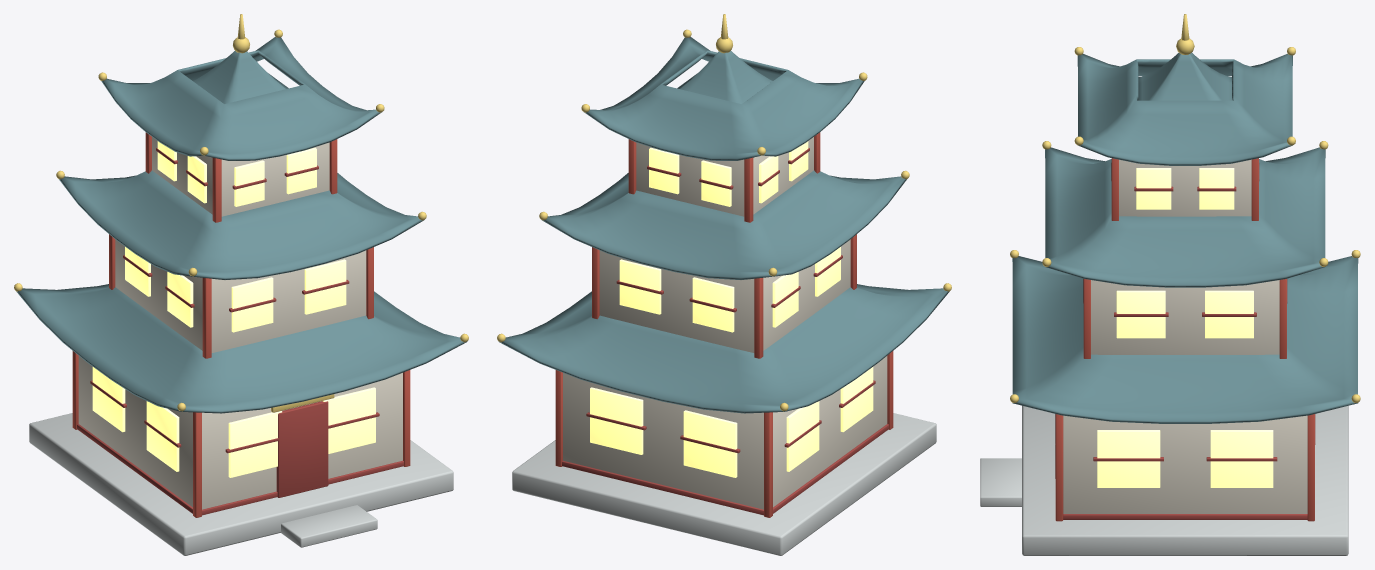
File: tower.glb
The picture shows the model from 3 angles, left to right: view 1: azimuth 30°, elevation 25°; view 2: azimuth 150°, elevation 25°; view 3: azimuth 270°, elevation 25°; orthographic projection. The views are drawn at different scales.
Parts seen in each view (by area): view 1: L1Eave, L2Eave, Base, L3Eave, L1Wall, L2Wall, Door, L3Wall, Cap, L1Win.005, L1Win.004, Step1 (+16 smaller); view 2: L1Eave, L2Eave, Base, L1Wall, L3Eave, L2Wall, L3Wall, L1Win, L1Win.001, Cap, L2Win, L2Win.001 (+14 smaller); view 3: L1Eave, L2Eave, Base, L3Eave, L1Wall, L2Wall, L3Wall, L1Win.007, L1Win.006, Cap, L2Win.007, L2Win.006 (+10 smaller).
Part boxes in pixels (bbox=[...]): L1Eave: bbox=[16, 284, 467, 413]; L2Eave: bbox=[59, 170, 423, 279]; Base: bbox=[29, 413, 453, 555]; L3Eave: bbox=[101, 37, 381, 160]; L1Wall: bbox=[78, 356, 402, 509]; L2Wall: bbox=[115, 239, 366, 352]; Door: bbox=[276, 401, 328, 497]; L3Wall: bbox=[152, 137, 329, 216]; Cap: bbox=[193, 51, 288, 103]; L1Win.005: bbox=[228, 411, 282, 477]; L1Win.004: bbox=[323, 387, 375, 453]; Step1: bbox=[280, 505, 377, 547]; L1Eave: bbox=[498, 284, 949, 413]; L2Eave: bbox=[542, 170, 906, 279]; Base: bbox=[512, 413, 936, 555]; L1Wall: bbox=[563, 356, 887, 509]; L3Eave: bbox=[584, 37, 864, 160]; L2Wall: bbox=[599, 239, 850, 352]; L3Wall: bbox=[636, 137, 813, 216]; L1Win: bbox=[683, 410, 737, 477]; L1Win.001: bbox=[590, 387, 643, 454]; Cap: bbox=[677, 51, 772, 103]; L2Win: bbox=[692, 277, 734, 332]; L2Win.001: bbox=[619, 259, 661, 314]; L1Eave: bbox=[1012, 256, 1358, 423]; L2Eave: bbox=[1045, 147, 1325, 287]; Base: bbox=[1022, 405, 1348, 555]; L3Eave: bbox=[1077, 54, 1292, 165]; L1Wall: bbox=[1063, 415, 1307, 513]; L2Wall: bbox=[1091, 280, 1279, 354]; L3Wall: bbox=[1119, 159, 1251, 216]; L1Win.007: bbox=[1097, 430, 1160, 487]; L1Win.006: bbox=[1210, 430, 1273, 487]; Cap: bbox=[1138, 52, 1232, 100]; L2Win.007: bbox=[1116, 290, 1165, 338]; L2Win.006: bbox=[1205, 290, 1253, 338].
Bounding box in the file's own units: 7.52 × 11.2 × 8.16.
